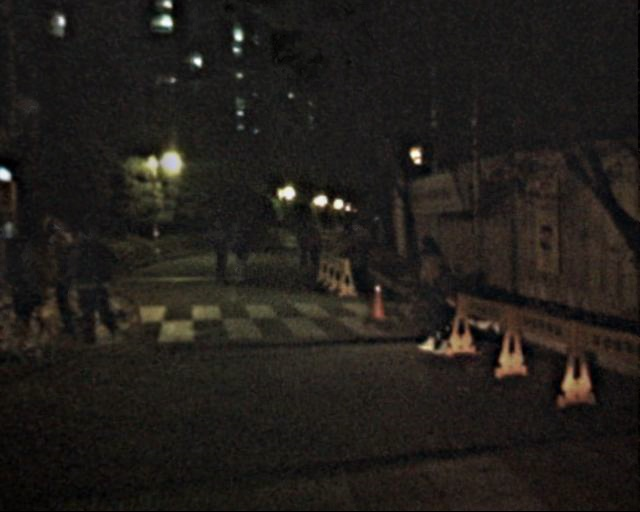person: (408, 236, 457, 356), (45, 216, 92, 331), (6, 229, 53, 343), (80, 226, 127, 340), (205, 219, 229, 278), (225, 224, 247, 278), (291, 225, 310, 272), (301, 227, 319, 270)
